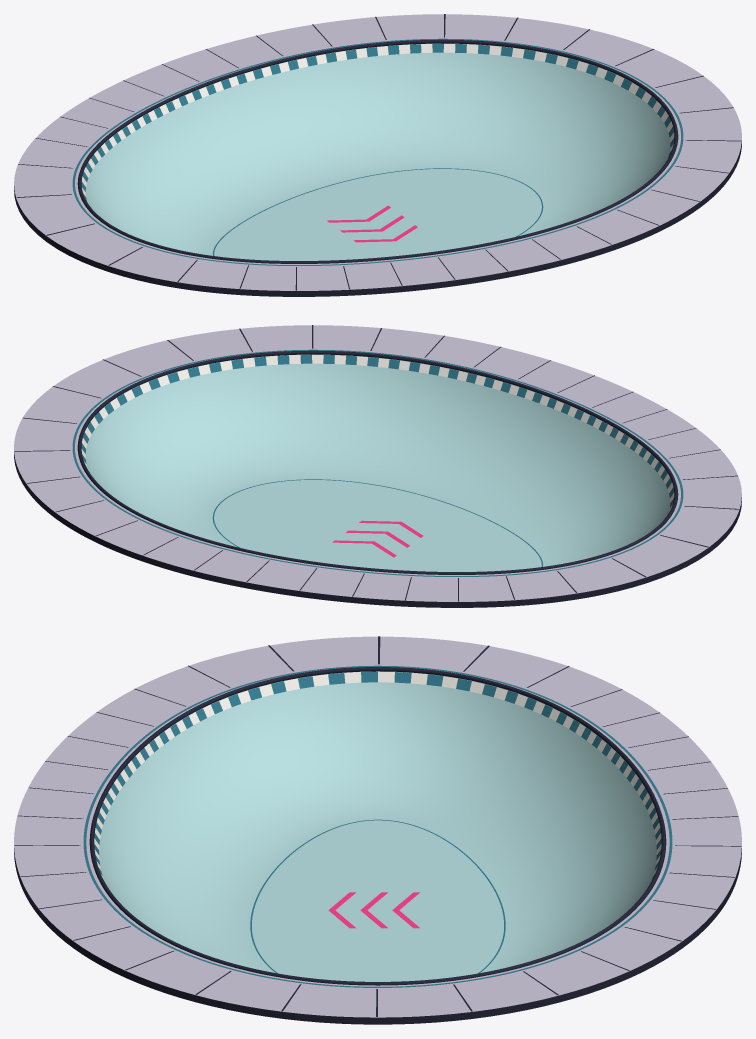
File: NeonPool_Bowl.obj
3 renders of one model, top to bottom at view 1: azimuth 30°, elevation 25°; view 2: azimuth 150°, elevation 25°; view 3: azimuth 270°, elevation 25°, orthographic. The views are drawn at different scales.
Visible parts, largest first — view 1: PoolSurface, Deck, Coping, DeckFascia, BlueTiles, WhiteTiles, PaintedLip, DeckJoints, FlowArrows, TransitionPaint; view 2: PoolSurface, Deck, Coping, DeckFascia, WhiteTiles, BlueTiles, PaintedLip, DeckJoints, FlowArrows, TransitionPaint; view 3: PoolSurface, Deck, Coping, DeckFascia, WhiteTiles, BlueTiles, PaintedLip, DeckJoints, FlowArrows, TransitionPaint.
Boxes of the visible parts, x1,y1,x2,y2 form: PoolSurface: [85, 43, 670, 260]; Deck: [14, 14, 741, 290]; Coping: [77, 39, 678, 263]; DeckFascia: [14, 141, 741, 296]; BlueTiles: [81, 43, 674, 201]; WhiteTiles: [82, 43, 674, 196]; PaintedLip: [72, 38, 683, 265]; DeckJoints: [16, 14, 741, 290]; FlowArrows: [327, 205, 417, 242]; TransitionPaint: [213, 168, 543, 255]; PoolSurface: [85, 354, 670, 571]; Deck: [14, 325, 741, 601]; Coping: [77, 350, 678, 574]; DeckFascia: [14, 452, 741, 607]; WhiteTiles: [81, 354, 674, 512]; BlueTiles: [81, 354, 673, 507]; PaintedLip: [72, 349, 683, 576]; DeckJoints: [14, 325, 739, 601]; FlowArrows: [332, 520, 423, 557]; TransitionPaint: [212, 479, 542, 566]; PoolSurface: [99, 671, 656, 981]; Deck: [14, 636, 741, 1017]; Coping: [89, 667, 666, 985]; DeckFascia: [14, 848, 741, 1024]; WhiteTiles: [94, 671, 661, 880]; BlueTiles: [94, 671, 661, 880]; PaintedLip: [83, 665, 672, 987]; DeckJoints: [14, 636, 741, 1016]; FlowArrows: [328, 892, 419, 928]; TransitionPaint: [250, 819, 505, 973].
Bounding box in the file's own units: 25.41 × 2.67 × 20.51.
